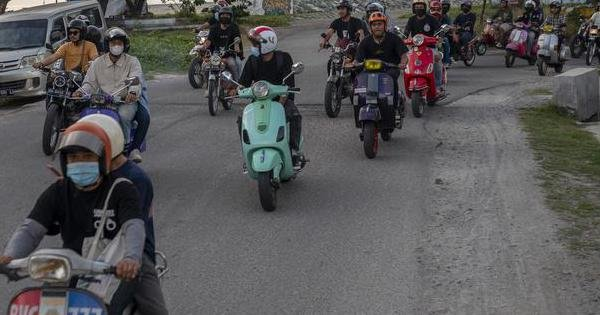motor: (228, 82, 311, 213), (344, 60, 400, 156), (400, 34, 444, 116), (538, 24, 568, 76), (503, 18, 526, 71)
